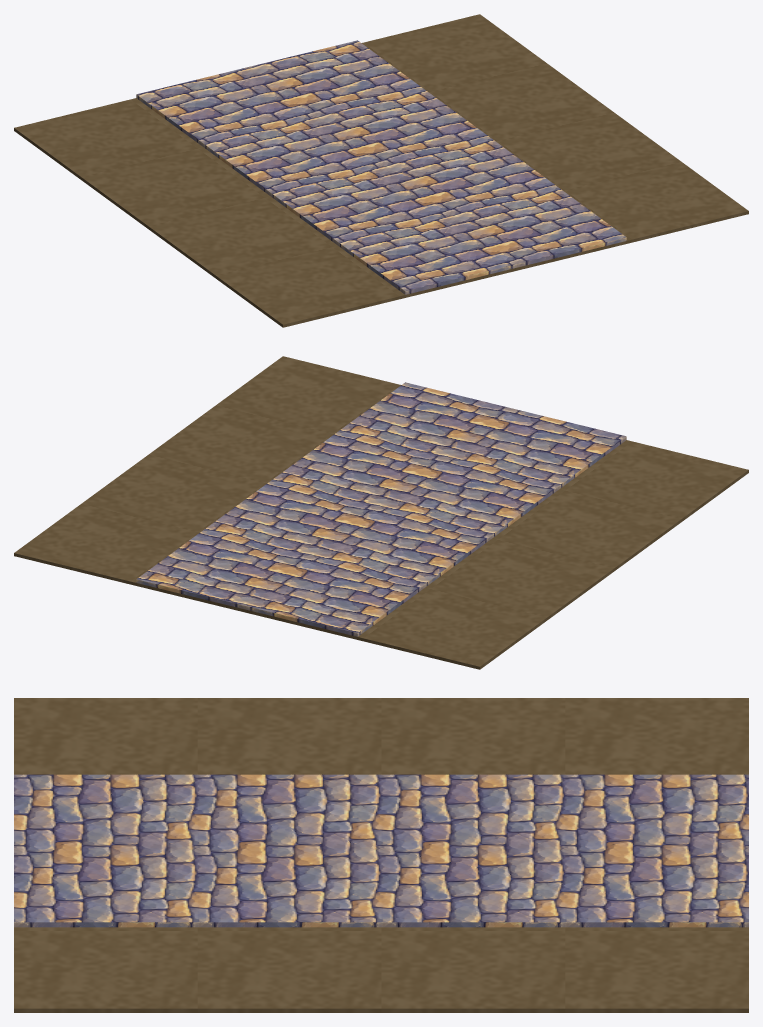
File: Road_Straight.fbx
The picture shows the model from 3 angles, top to bottom: view 1: azimuth 30°, elevation 25°; view 2: azimuth 150°, elevation 25°; view 3: azimuth 270°, elevation 25°; orthographic projection. The views are drawn at different scales.
Visible parts, largest first — view 1: Road_Straight.001; view 2: Road_Straight.001; view 3: Road_Straight.001.
Part boxes in pixels (x1,y1,x2,y2): Road_Straight.001: [14, 14, 748, 327]; Road_Straight.001: [14, 356, 748, 669]; Road_Straight.001: [14, 698, 748, 1012].
Bounding box in the file's own units: 800 × 11 × 800.
2 materials, 2 textured.
